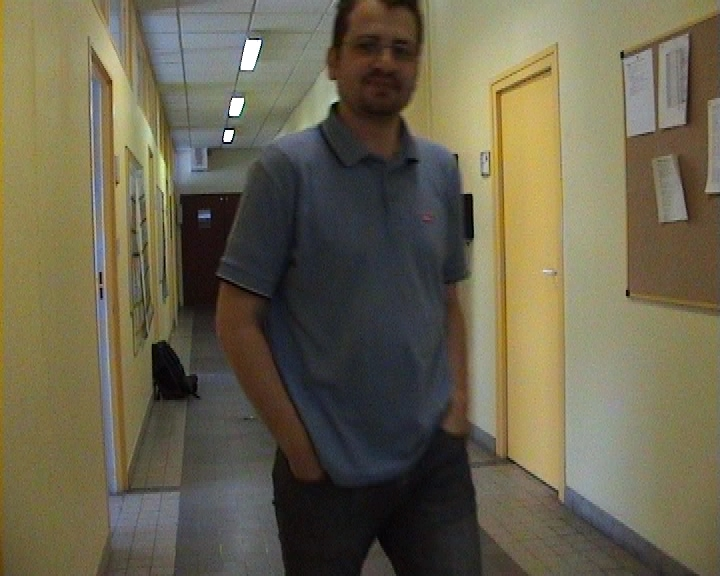leave bag unattended: (134, 318, 269, 450)
